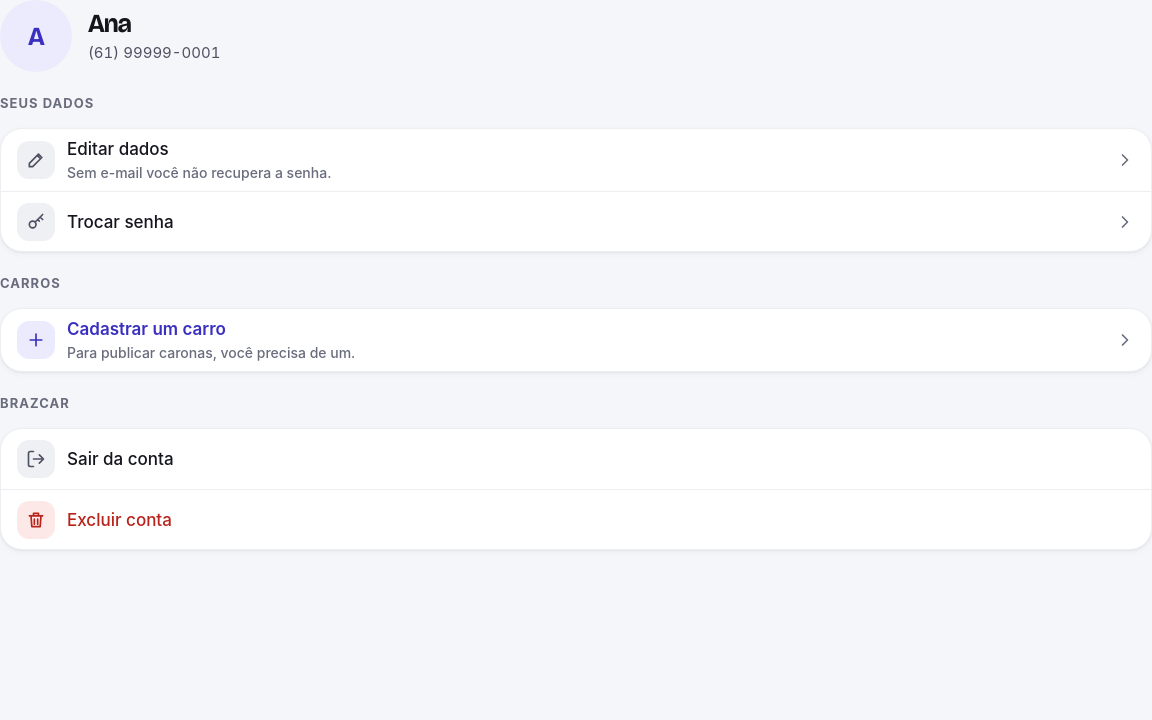
Test: AccountPanel delete control › opens a dialog that explains what happens, separate from the everyday actions
This screenshot has width=1152, height=720.
Click the button "Excluir conta" at (36, 520), box [1,489,1151,549]
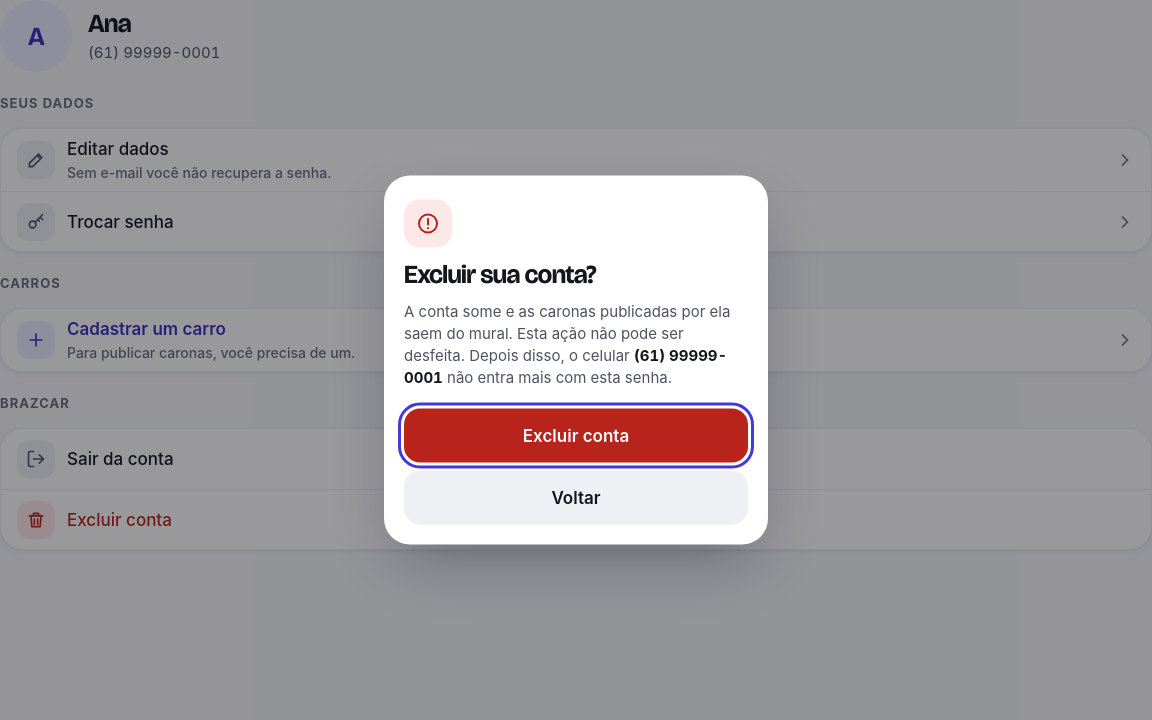
Expected: the heading "Excluir sua conta?" is shown, [404,258,596,290]
Expected: the text "A conta some e as caronas publicadas por ela saem do mural" is shown, [404,302,730,364]
